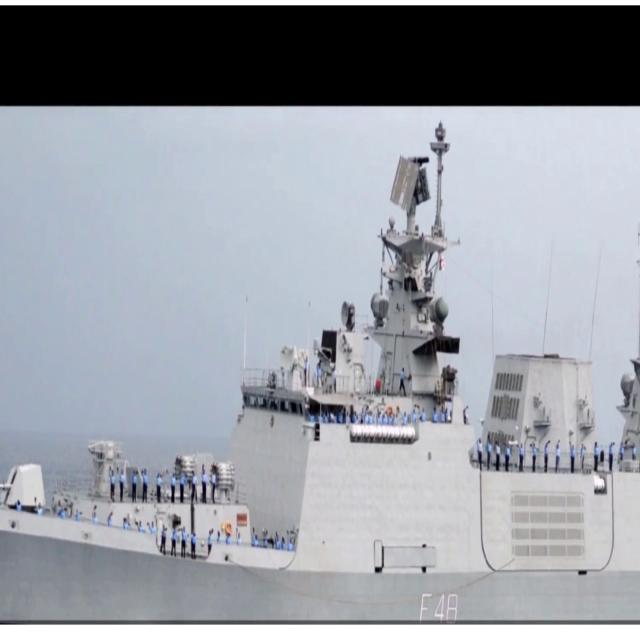OCR: (410, 586, 463, 622)
